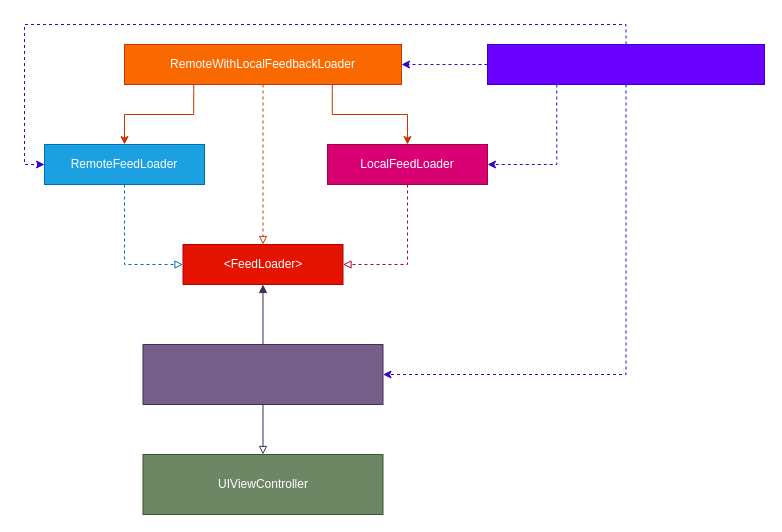
This 782x532 diagram has some shape labels left out. The shapes that lost their labels are listed below. From the top down, each one's box as (x1, y1, x2, y2) in pixels, then its label:
(486, 44, 764, 84): Feed Assembler/Builder/Factory
(142, 344, 383, 404): FeedViewController
